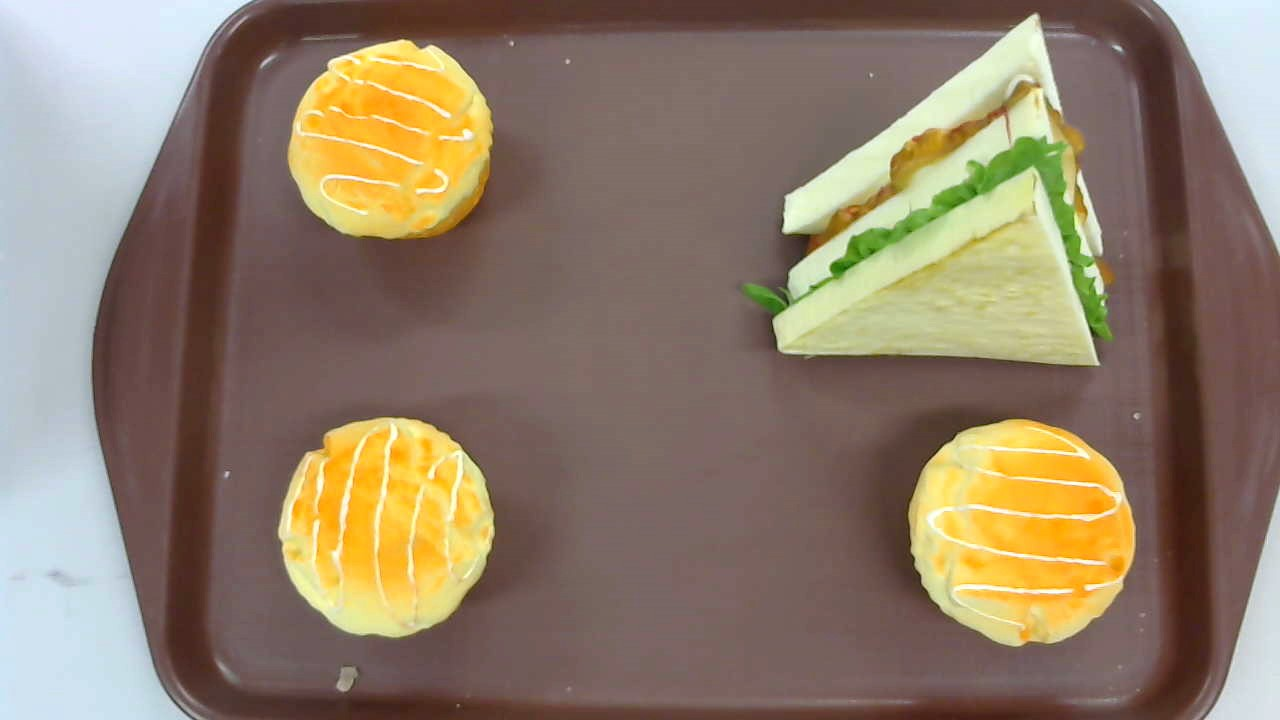cupcake: (908, 419, 1137, 647), (278, 417, 494, 639), (288, 38, 493, 242)
sandwich: (739, 10, 1116, 368)
